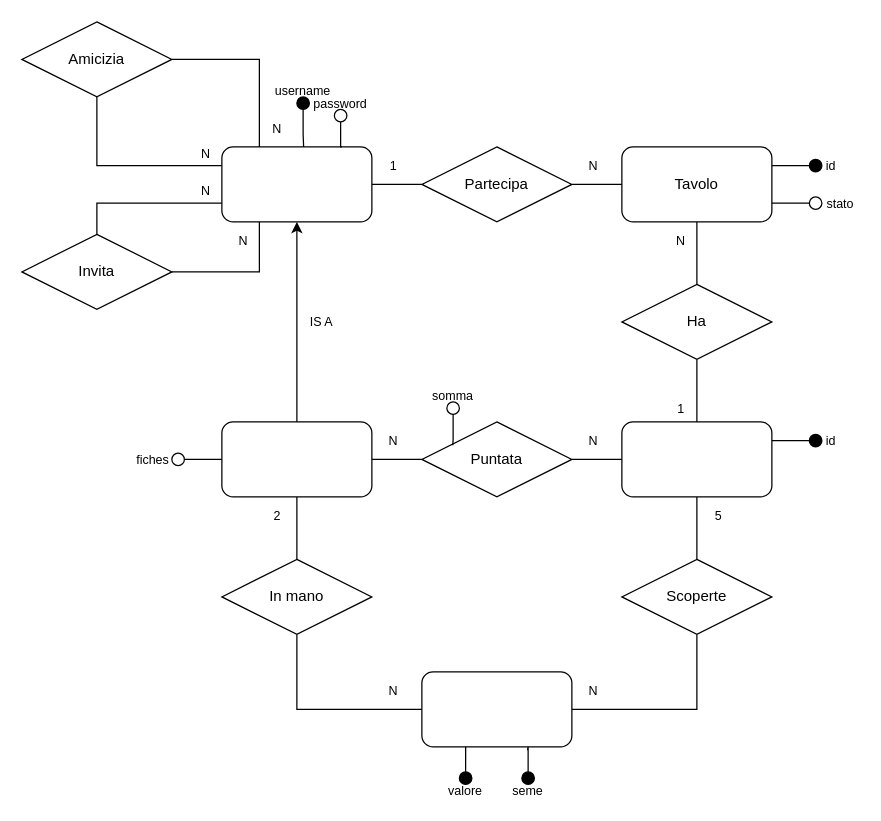
This 881x821 diagram has some shape labels left out. Each missing label, with the centre of its shape:
"Carta" belongs at point 496,709.
"Giocatore" belongs at point 296,459.
"Mano" belongs at point 696,459.
"Utente" belongs at point 296,184.
